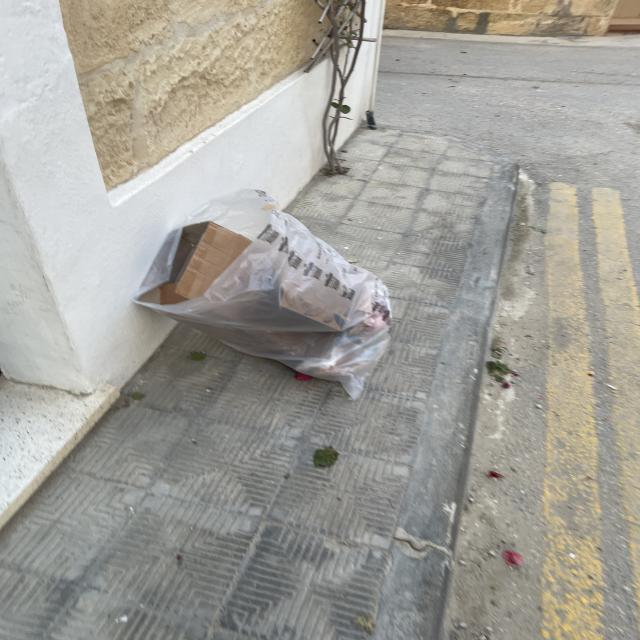grey_bag: (127, 182, 406, 401)
